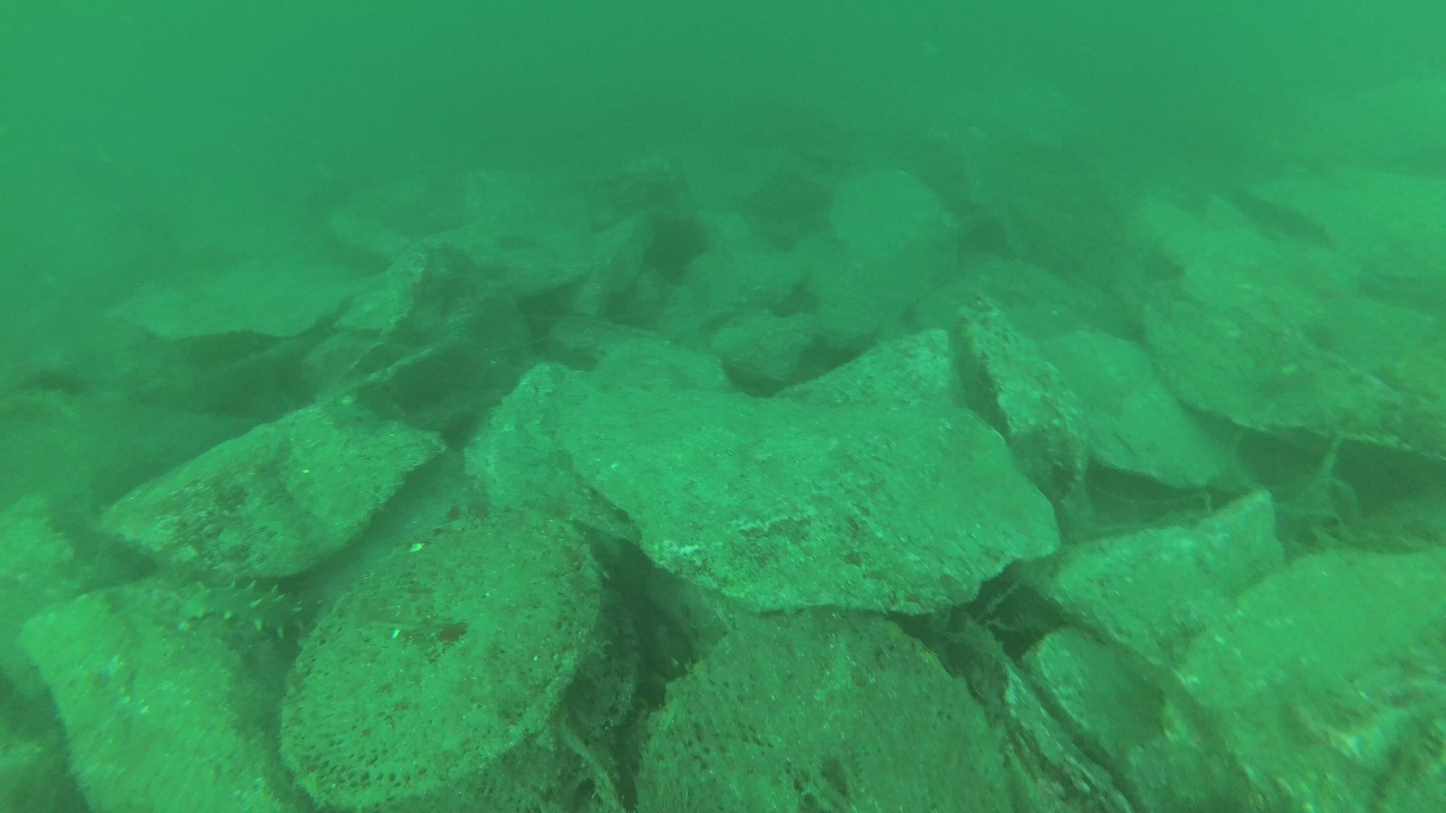echinus: (177, 577, 331, 639)
